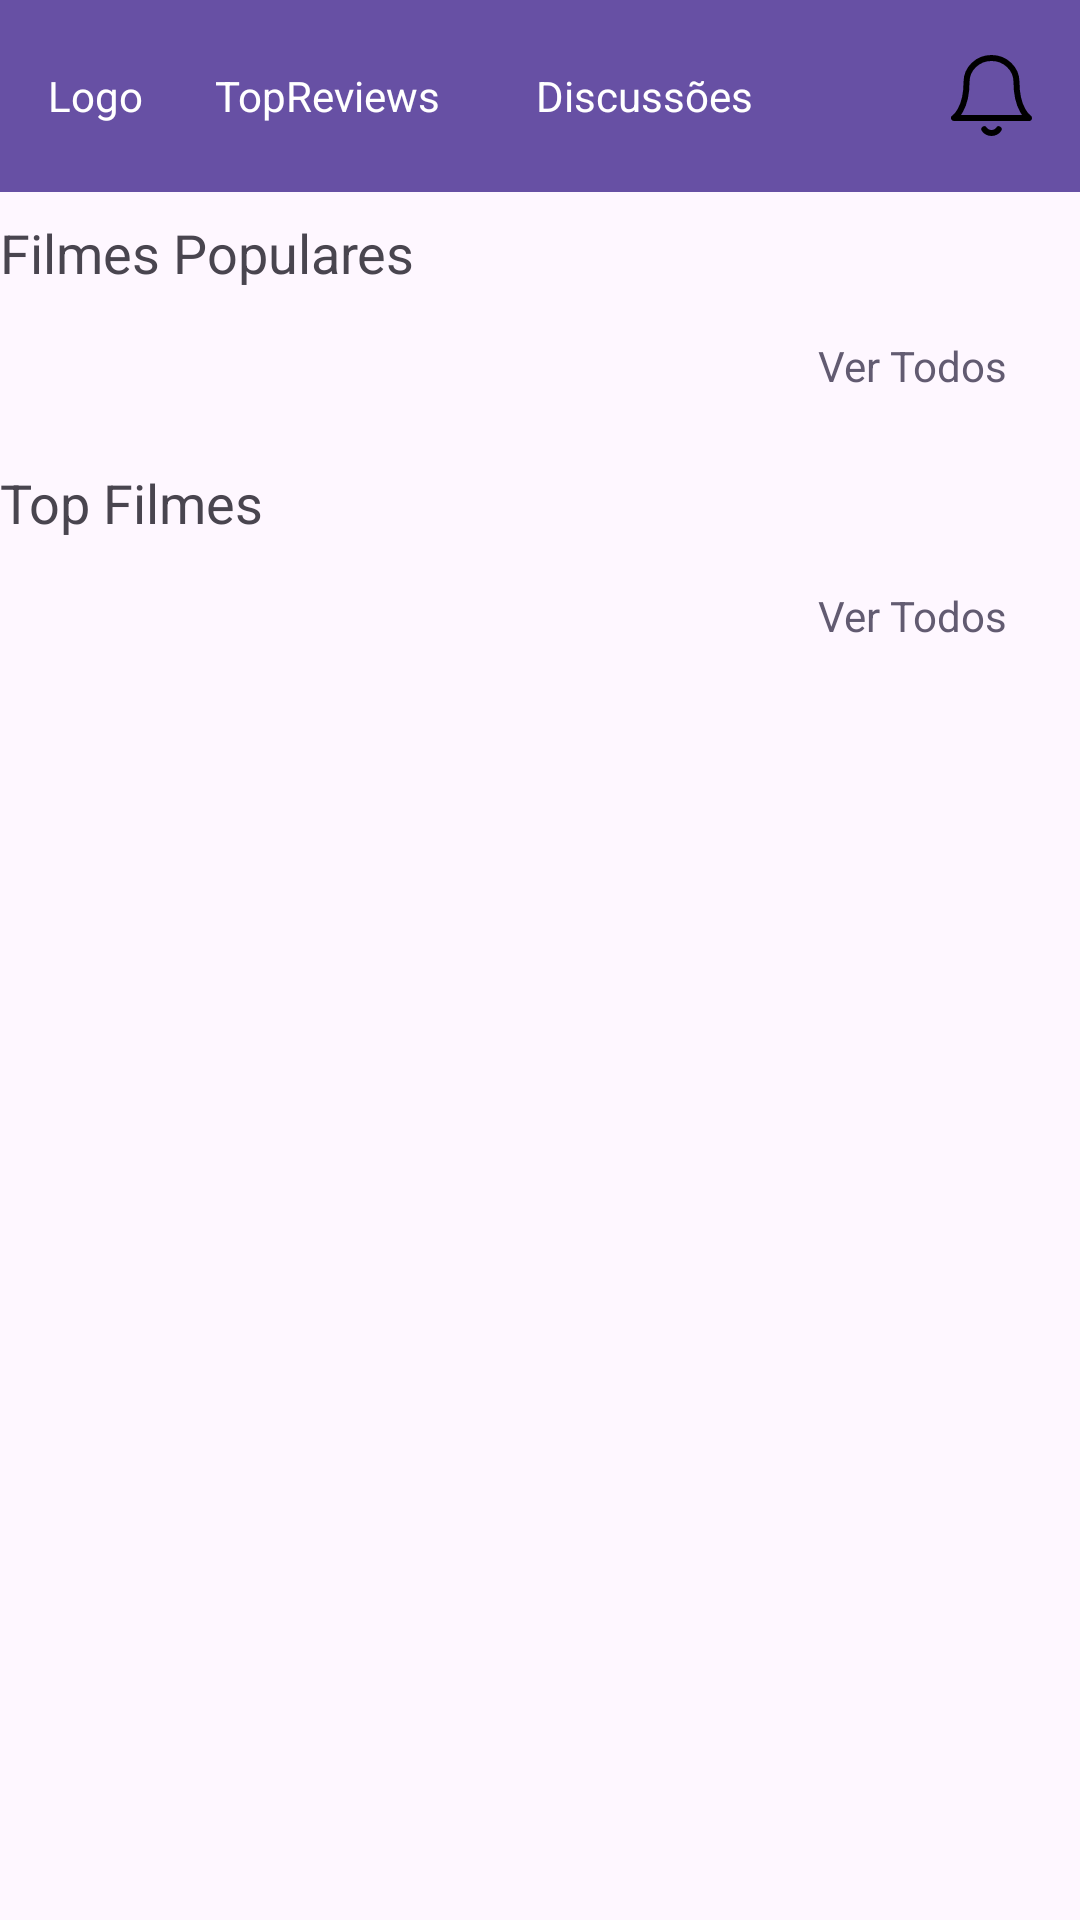

Screen size 1080 x 1920. Icon name, then its center in pixels as (x,y):
Notificações: (991,95)
